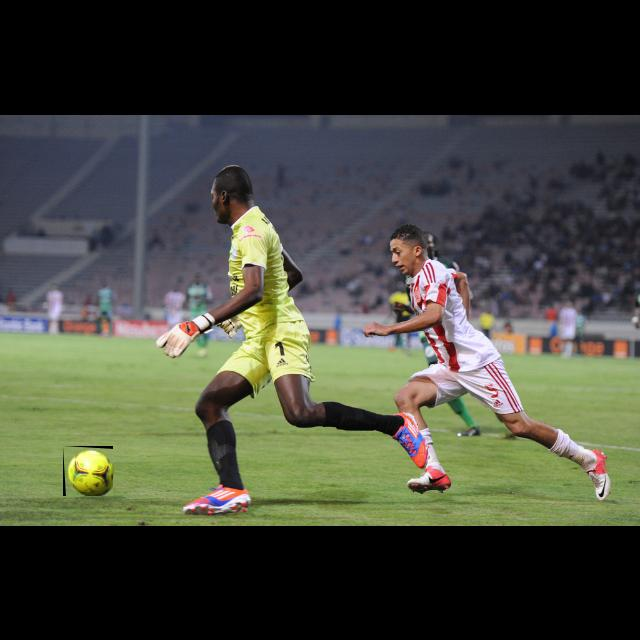Football: (63, 446, 113, 496)
